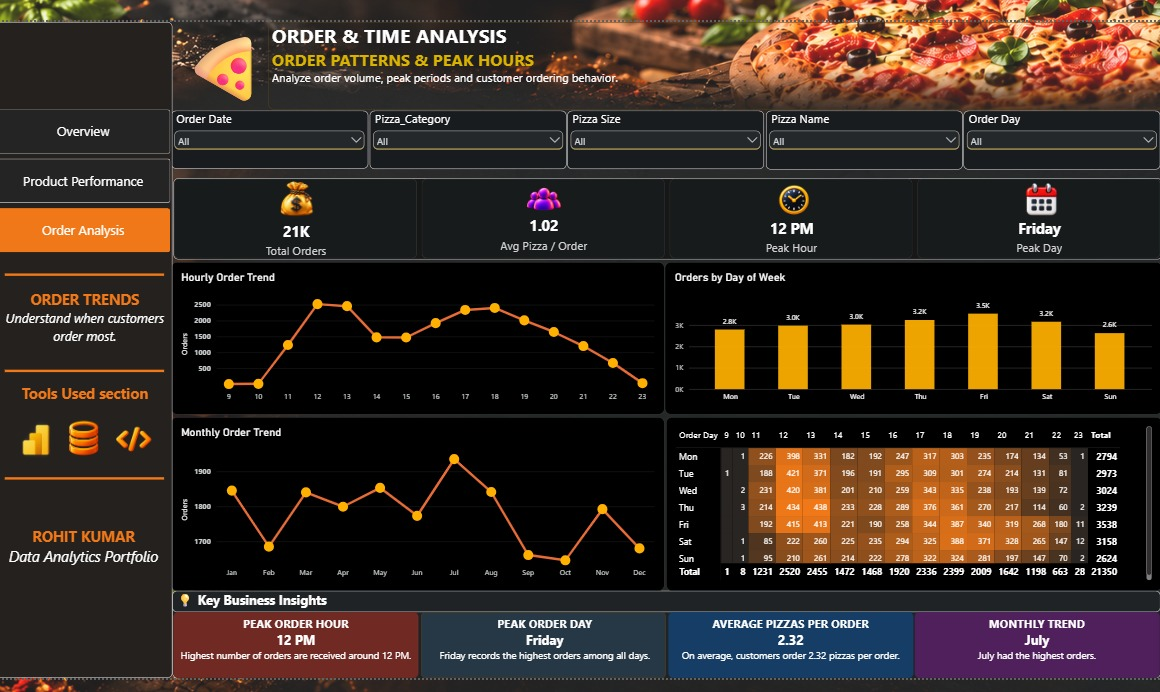

This screenshot's page, from the dashboard's own definition file:
{"tool":"powerbi","page":{"name":"Order Analysis","canvas":[1920,1080],"ordinal":2},"visuals":[{"type":"cardVisual","fields":{"Data":["public pizza_data.Total Orders","public pizza_data.Avg Pizza Per Order","public pizza_data.Peak Hour","public pizza_data.Peak Day"]},"box":[292.3,257.3,1628.1,133.8],"z":0},{"type":"textbox","box":[448.7,0,1471.7,144.1],"z":1000},{"type":"columnChart","title":"Orders by Day of Week","fields":{"Category":["public pizza_data.Order Day"],"Y":["public pizza_data.Total Orders"]},"box":[1101.2,395,819.2,251.1],"z":3000},{"type":"lineChart","title":"Hourly Order Trend","fields":{"Category":["public pizza_data.Order Hour"],"Y":["public pizza_data.Total Orders"]},"box":[288,395,813,251.1],"z":4000},{"type":"slicer","fields":{"Values":["public pizza_data.Order Day"]},"box":[1593.8,146,324,96.7],"z":5000},{"type":"slicer","fields":{"Values":["public pizza_data.pizza_name"]},"box":[1268,146,324,96.7],"z":6000},{"type":"slicer","fields":{"Values":["public pizza_data.pizza_size"]},"box":[941,146.2,324,96],"z":7000},{"type":"slicer","fields":{"Values":["public pizza_data.pizza_category"]},"box":[615.4,146.2,324,96],"z":8000},{"type":"slicer","title":"Order Date","fields":{"Values":["public pizza_data.order_date"]},"box":[289,146.7,324.4,95.6],"z":9000},{"type":"textbox","box":[290.2,0,158.5,146.1],"z":10000},{"type":"textbox","box":[290,938,1628,142],"z":11000},{"type":"textbox","box":[290,937.5,1627.5,35],"z":12000},{"type":"textbox","box":[292.3,971.5,403.4,109.1],"z":13000},{"type":"textbox","box":[699,971,403,109.1],"z":14000},{"type":"textbox","box":[1107,971.5,403,109.1],"z":15000},{"type":"textbox","box":[1512.9,971.5,403,109.1],"z":16000},{"type":"lineChart","title":"Monthly Order Trend","fields":{"Category":["public pizza_data.Month Name"],"Y":["public pizza_data.Total Orders"]},"box":[288.2,650.4,813,286.1],"z":18000},{"type":"pivotTable","fields":{"Columns":["public pizza_data.Order Hour"],"Rows":["public pizza_data.Order Day"],"Values":["public pizza_data.Total Orders"]},"box":[1103.3,650.4,817.2,286.1],"z":19000},{"type":"textbox","box":[0,0,290,1080],"z":20001},{"type":"pageNavigator","box":[0,144,287.5,237.5],"z":20002},{"type":"shape","box":[15,327.5,262.5,177.5],"z":20003},{"type":"textbox","box":[0,756.8,288.2,323.2],"z":20004},{"type":"textbox","box":[0,595,292.5,162.5],"z":20005},{"type":"shape","box":[14.4,662.8,262.5,177.5],"z":20006},{"type":"image","box":[32,640,66,94],"z":20007},{"type":"image","box":[112,638,66,94],"z":20008},{"type":"image","box":[194,640,66,94],"z":20009},{"type":"shape","box":[15,485,262.5,177.5],"z":20010},{"type":"textbox","box":[0,417.5,292.5,157.5],"z":20011}]}

Visuals, with their boxes on the page's 1920x1080 design canvas (x1, y1, x2, y2). These are canvas units, not pixel positions in the 1160x692 screenshot, which may show the page scaled, cropped or inside an application window:
cardVisual - public pizza_data.Total Orders x public pizza_data.Avg Pizza Per Order: crop(292, 257, 1920, 391)
textbox: crop(449, 0, 1920, 144)
"Orders by Day of Week" columnChart: crop(1101, 395, 1920, 646)
"Hourly Order Trend" lineChart: crop(288, 395, 1101, 646)
slicer - public pizza_data.Order Day: crop(1594, 146, 1918, 243)
slicer - public pizza_data.pizza_name: crop(1268, 146, 1592, 243)
slicer - public pizza_data.pizza_size: crop(941, 146, 1265, 242)
slicer - public pizza_data.pizza_category: crop(615, 146, 939, 242)
"Order Date" slicer: crop(289, 147, 613, 242)
textbox: crop(290, 0, 449, 146)
textbox: crop(290, 938, 1918, 1080)
textbox: crop(290, 938, 1918, 972)
textbox: crop(292, 972, 696, 1081)
textbox: crop(699, 971, 1102, 1080)
textbox: crop(1107, 972, 1510, 1081)
textbox: crop(1513, 972, 1916, 1081)
"Monthly Order Trend" lineChart: crop(288, 650, 1101, 936)
pivotTable - public pizza_data.Order Hour x public pizza_data.Order Day: crop(1103, 650, 1920, 936)
textbox: crop(0, 0, 290, 1080)
pageNavigator: crop(0, 144, 288, 382)
shape: crop(15, 328, 278, 505)
textbox: crop(0, 757, 288, 1080)
textbox: crop(0, 595, 292, 758)
shape: crop(14, 663, 277, 840)
image: crop(32, 640, 98, 734)
image: crop(112, 638, 178, 732)
image: crop(194, 640, 260, 734)
shape: crop(15, 485, 278, 662)
textbox: crop(0, 418, 292, 575)
